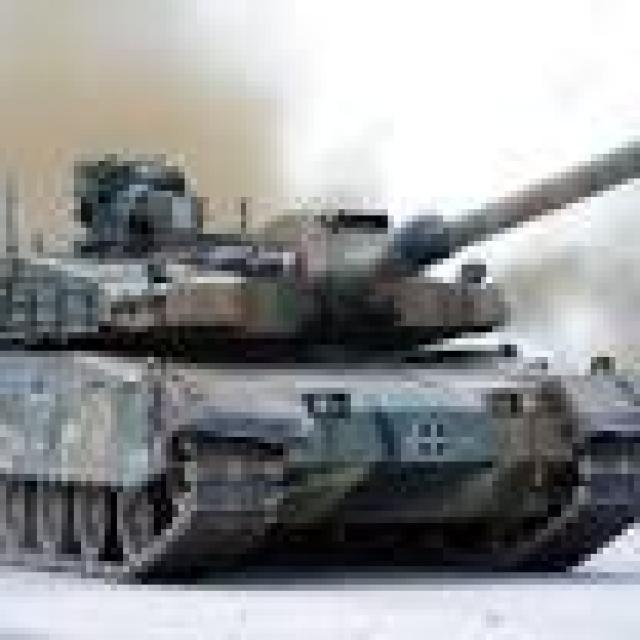MIL_MBT: (3, 108, 631, 594)
